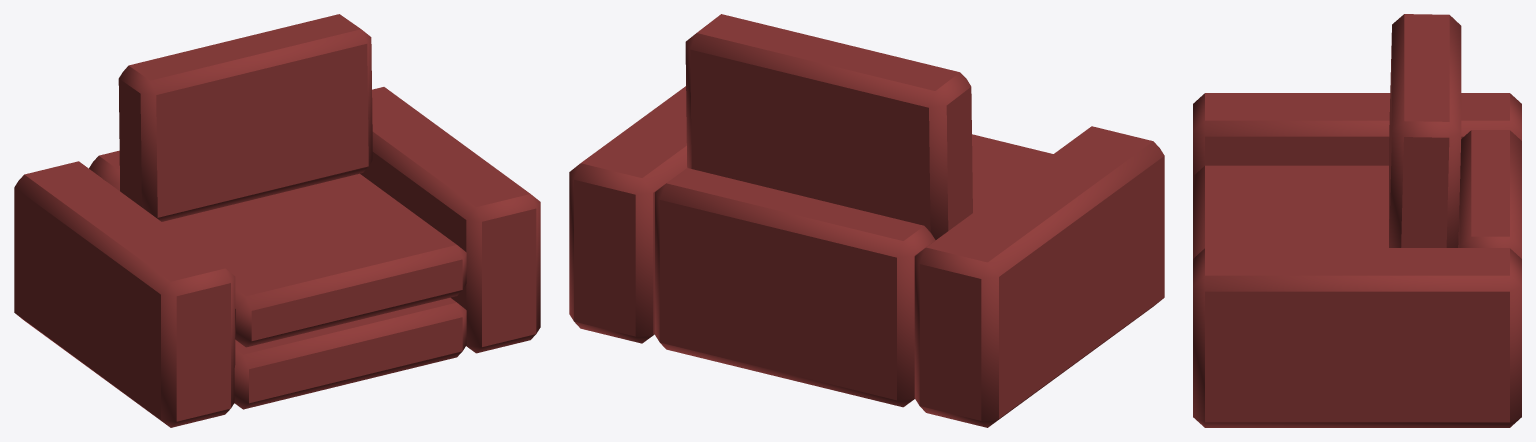
File: Sofa_Small.glb
The picture shows the model from 3 angles, left to right: view 1: azimuth 30°, elevation 25°; view 2: azimuth 150°, elevation 25°; view 3: azimuth 270°, elevation 25°; orthographic projection. The views are drawn at different scales.
Parts seen in each view (by area): view 1: Sofa_Small; view 2: Sofa_Small; view 3: Sofa_Small.
Boxes of the visible parts, x1,y1,x2,y2 form: Sofa_Small: [14, 14, 540, 427]; Sofa_Small: [569, 14, 1164, 427]; Sofa_Small: [1193, 14, 1521, 427].
Bounding box in the file's own units: 2.03 × 1.32 × 1.46.
